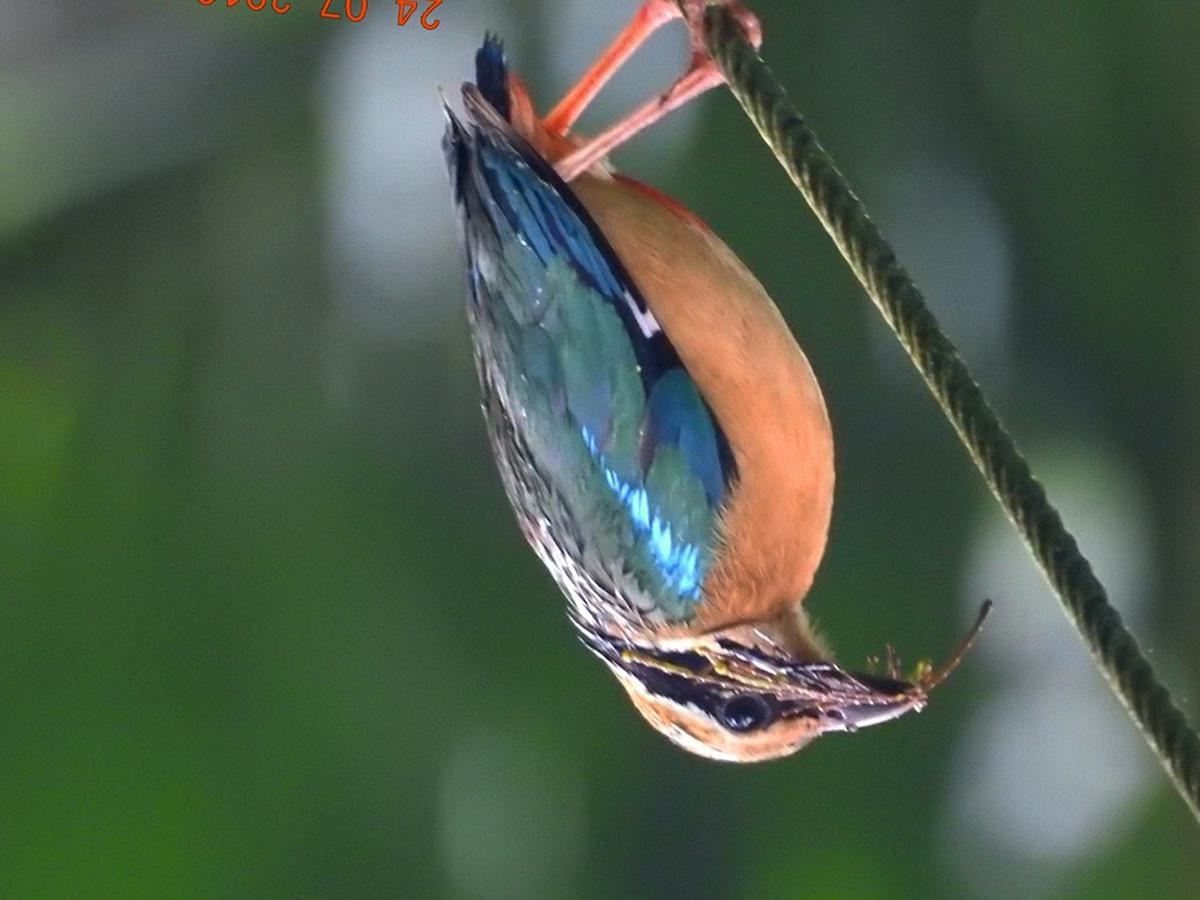pitta: (407, 50, 980, 781)
